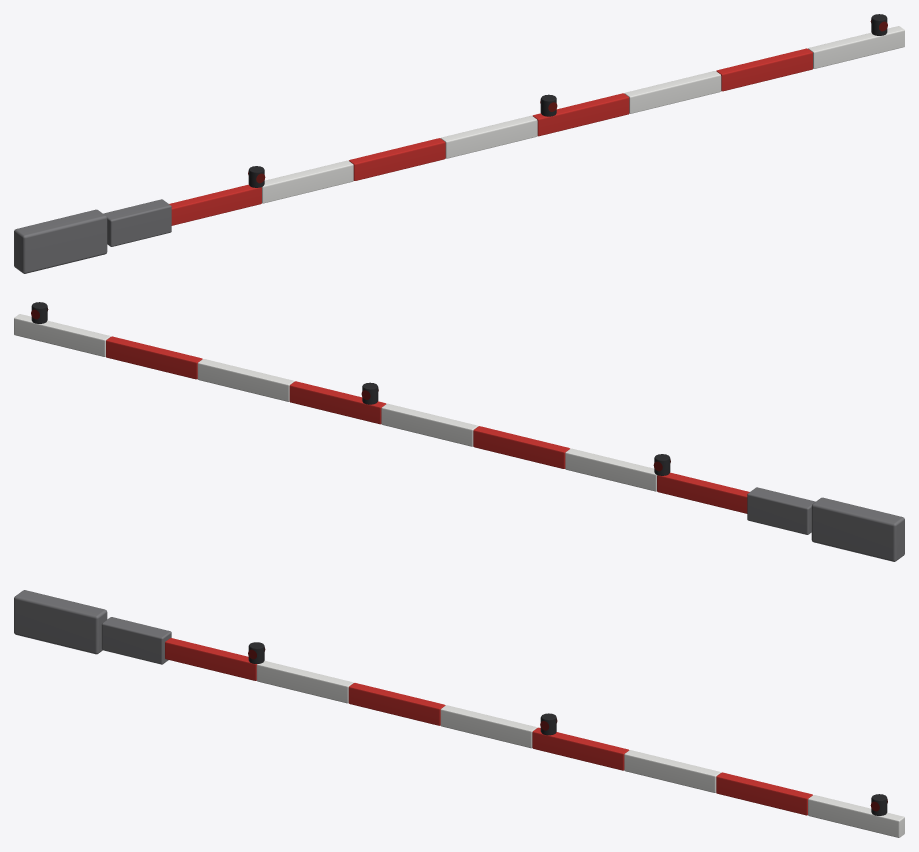
File: lx_boom_5.glb
3 views of the same model, one above another, from view 1: azimuth 30°, elevation 25°; view 2: azimuth 150°, elevation 25°; view 3: azimuth 330°, elevation 25° (orthographic).
Parts seen in each view (by area): view 1: SM_lx_boom_5; view 2: SM_lx_boom_5; view 3: SM_lx_boom_5.
Part boxes in pixels (left/top/right/bottom): SM_lx_boom_5: left=14, top=14, right=904, bottom=273; SM_lx_boom_5: left=14, top=302, right=904, bottom=561; SM_lx_boom_5: left=14, top=590, right=904, bottom=837.
Size of the model in its own units: 5.75 by 0.275 by 0.12.
